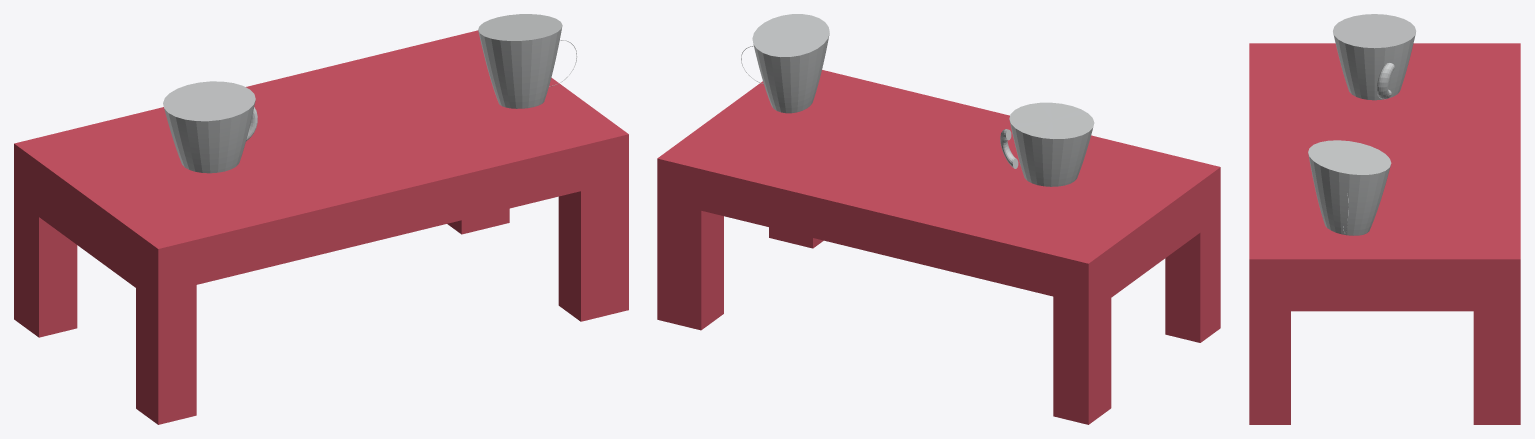
Rendered from 3D Models.glb.
3 views of the same model, side by side, from view 1: azimuth 30°, elevation 25°; view 2: azimuth 150°, elevation 25°; view 3: azimuth 270°, elevation 25° (orthographic). The views are drawn at different scales.
Visible parts, largest first — view 1: Mesh_Mesh_head_geo.001_lambert2SG.001; view 2: Mesh_Mesh_head_geo.001_lambert2SG.001; view 3: Mesh_Mesh_head_geo.001_lambert2SG.001.
Part boxes in pixels (bbox=[...]): Mesh_Mesh_head_geo.001_lambert2SG.001: bbox=[14, 14, 628, 424]; Mesh_Mesh_head_geo.001_lambert2SG.001: bbox=[657, 14, 1220, 424]; Mesh_Mesh_head_geo.001_lambert2SG.001: bbox=[1249, 14, 1520, 424].
Bounding box in the file's own units: 98.1 × 52.3 × 52.
